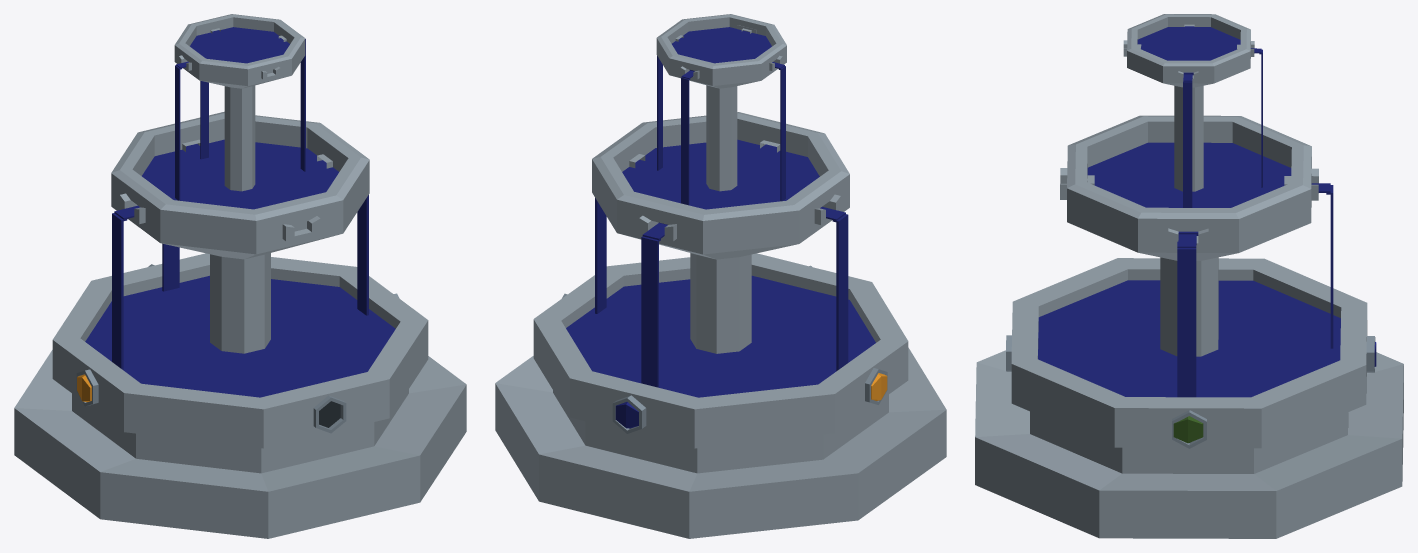
Rendered from Fontaine3.obj.
3 renders of one model, left to right at view 1: azimuth 30°, elevation 25°; view 2: azimuth 150°, elevation 25°; view 3: azimuth 270°, elevation 25°, orthographic.
Visible parts, largest first — view 1: Cylinder.111, Cylinder.108, Cylinder.109, Plane.078, Cylinder.110, Plane.077, Plane.076, Cylinder.105; view 2: Cylinder.111, Cylinder.108, Cylinder.109, Plane.076, Plane.078, Cylinder.110, Plane.077, Cylinder.107; view 3: Cylinder.111, Cylinder.108, Cylinder.109, Plane.077, Cylinder.110, Plane.076, Gem_4.002.
Boxes of the visible parts, left/top/right/bottom form: Cylinder.111: left=14, top=14, right=466, bottom=538; Cylinder.108: left=85, top=275, right=395, bottom=397; Cylinder.109: left=142, top=139, right=338, bottom=209; Plane.078: left=112, top=61, right=188, bottom=370; Cylinder.110: left=190, top=27, right=289, bottom=63; Plane.077: left=300, top=39, right=368, bottom=315; Plane.076: left=162, top=81, right=208, bottom=291; Cylinder.105: left=313, top=395, right=346, bottom=433; Cylinder.111: left=495, top=14, right=946, bottom=538; Cylinder.108: left=566, top=275, right=875, bottom=397; Cylinder.109: left=622, top=139, right=819, bottom=224; Plane.076: left=641, top=70, right=694, bottom=387; Plane.078: left=772, top=62, right=848, bottom=371; Cylinder.110: left=672, top=27, right=771, bottom=71; Plane.077: left=595, top=56, right=662, bottom=313; Cylinder.107: left=612, top=395, right=646, bottom=433; Cylinder.111: left=975, top=14, right=1403, bottom=538; Cylinder.108: left=1038, top=280, right=1340, bottom=397; Cylinder.109: left=1087, top=142, right=1291, bottom=235; Plane.077: left=1177, top=74, right=1196, bottom=397; Cylinder.110: left=1137, top=26, right=1240, bottom=75; Plane.076: left=1250, top=48, right=1333, bottom=348; Gem_4.002: left=1173, top=416, right=1203, bottom=443.
Size of the model in its own units: 4.75 by 5 by 4.75.
1 material, 1 textured.
